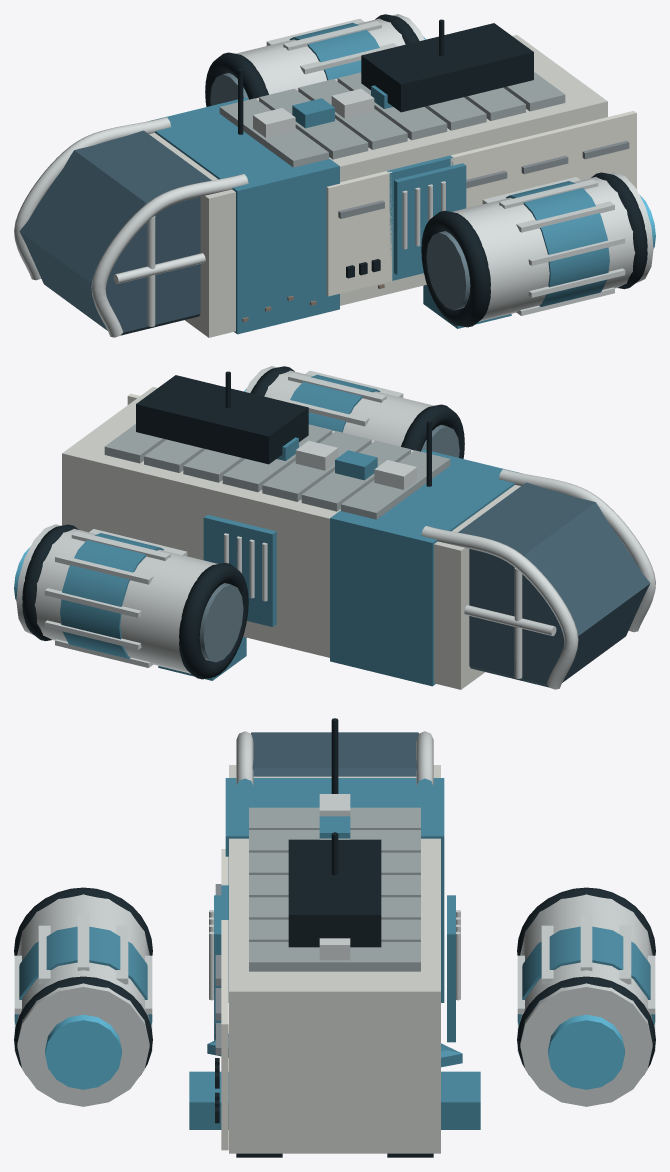
File: ship-explorer.glb
3 views of the same model, one above another, from view 1: azimuth 30°, elevation 25°; view 2: azimuth 150°, elevation 25°; view 3: azimuth 270°, elevation 25° (orthographic). The views are drawn at different scales.
Visible parts, largest first — view 1: hull, cockpit, engine-right, engine-left; view 2: hull, cockpit, engine-left, engine-right; view 3: hull, engine-left, engine-right, exhaust (×2), cockpit.
Boxes of the visible parts, <box> form: hull: <box>149,19,636,337</box>; cockpit: <box>14,117,248,337</box>; engine-right: <box>421,172,653,327</box>; engine-left: <box>205,14,424,106</box>; hull: <box>62,371,520,689</box>; cockpit: <box>421,469,655,689</box>; engine-left: <box>16,524,248,679</box>; engine-right: <box>245,366,464,458</box>; hull: <box>189,718,480,1157</box>; engine-left: <box>517,887,655,1106</box>; engine-right: <box>14,887,152,1106</box>; exhaust (×2): <box>45,1014,624,1089</box>; cockpit: <box>236,731,433,785</box>.
Size of the model in its own units: 5.43 by 2.44 by 4.85.
